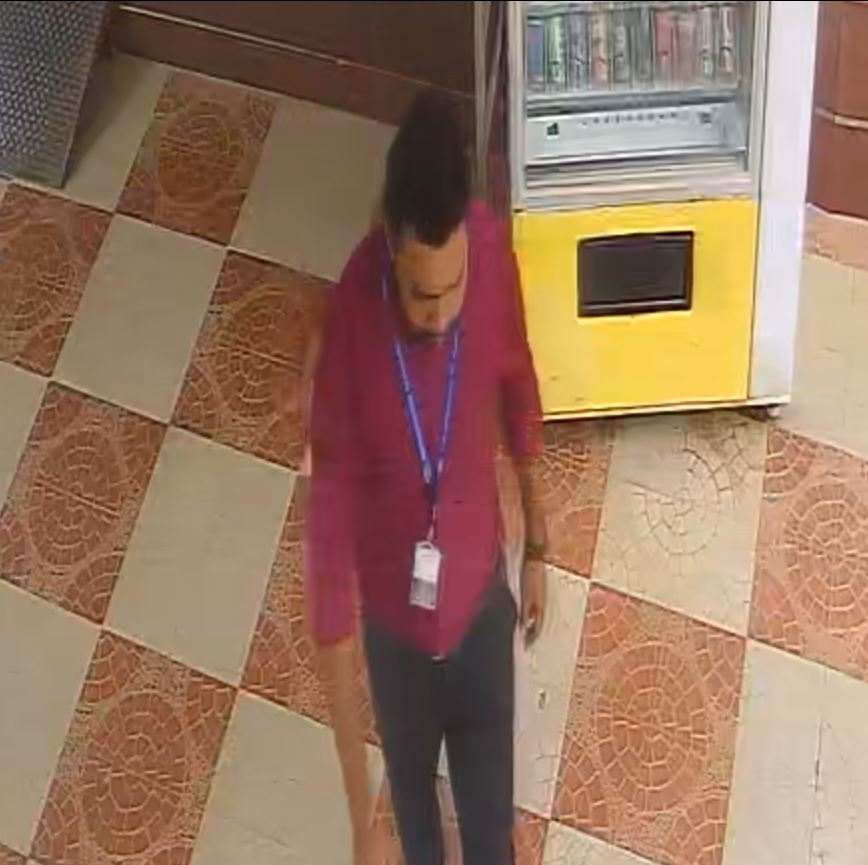not intruder: (275, 91, 596, 865)
